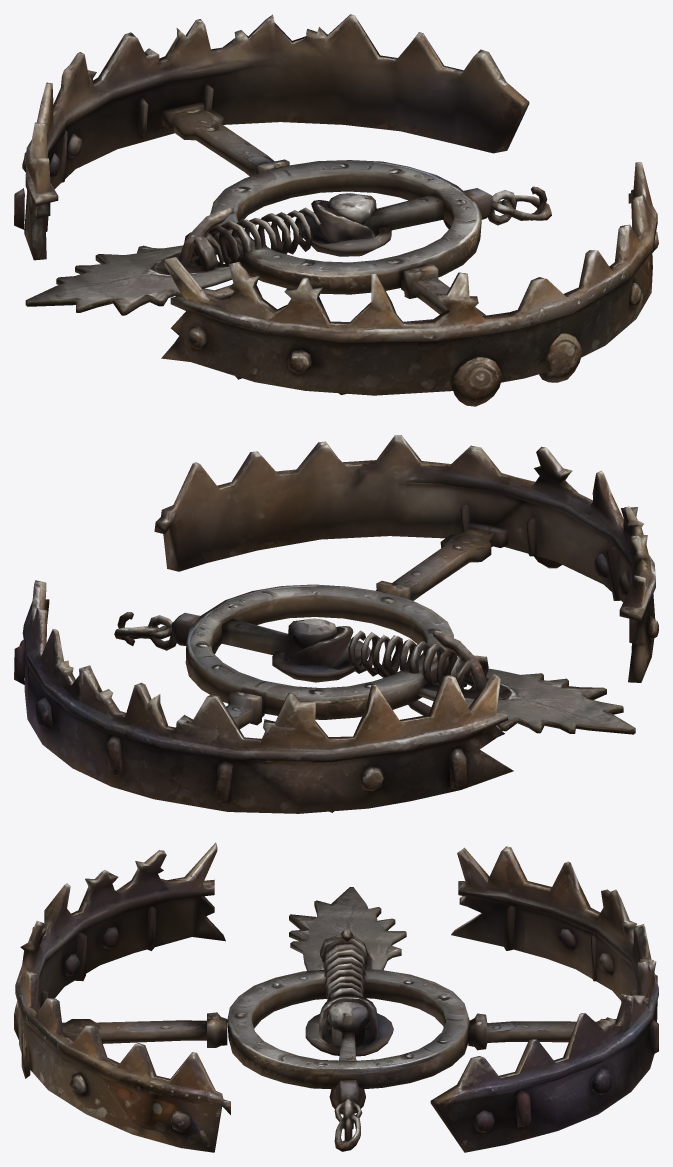
3 renders of one model, top to bottom at view 1: azimuth 30°, elevation 25°; view 2: azimuth 150°, elevation 25°; view 3: azimuth 270°, elevation 25°, orthographic. The views are drawn at different scales.
Visible parts, largest first — view 1: tripo_node_598529f0-9818-4f7b-89f9-5ac9f409cdd5; view 2: tripo_node_598529f0-9818-4f7b-89f9-5ac9f409cdd5; view 3: tripo_node_598529f0-9818-4f7b-89f9-5ac9f409cdd5.
Boxes of the visible parts, x1,y1,x2,y2 form: tripo_node_598529f0-9818-4f7b-89f9-5ac9f409cdd5: [14, 14, 658, 406]; tripo_node_598529f0-9818-4f7b-89f9-5ac9f409cdd5: [14, 435, 658, 813]; tripo_node_598529f0-9818-4f7b-89f9-5ac9f409cdd5: [14, 842, 658, 1152].
Size of the model in its own units: 0.8926 by 0.2168 by 0.998.
1 material, 1 textured.
